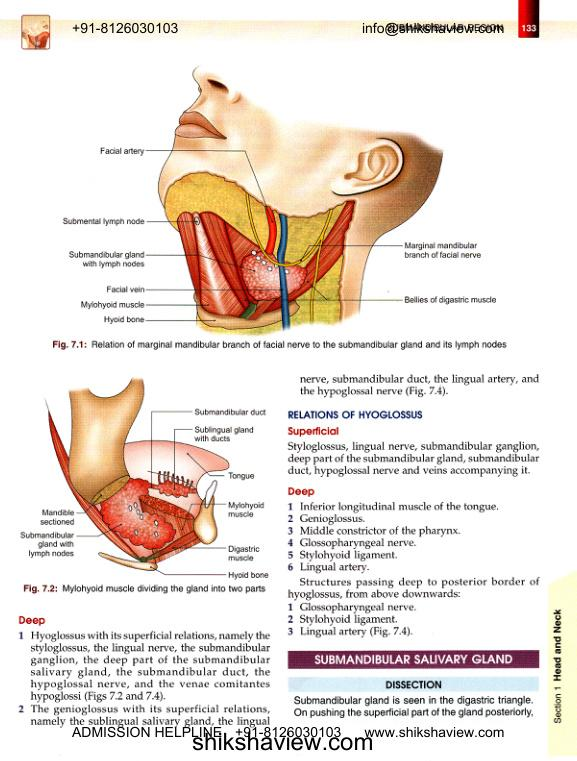caption: (51, 339, 508, 351), (22, 583, 266, 595)
image: (51, 57, 507, 336), (16, 374, 272, 582)
list: (17, 630, 271, 728), (287, 501, 499, 575), (296, 372, 541, 399), (286, 602, 417, 639)
section-heading: (314, 653, 514, 664)
sub-section-heading: (287, 409, 423, 421), (385, 679, 443, 691), (287, 426, 340, 438), (287, 486, 316, 498), (17, 615, 46, 627)
text: (286, 440, 541, 478), (286, 576, 540, 601), (293, 694, 535, 720)
